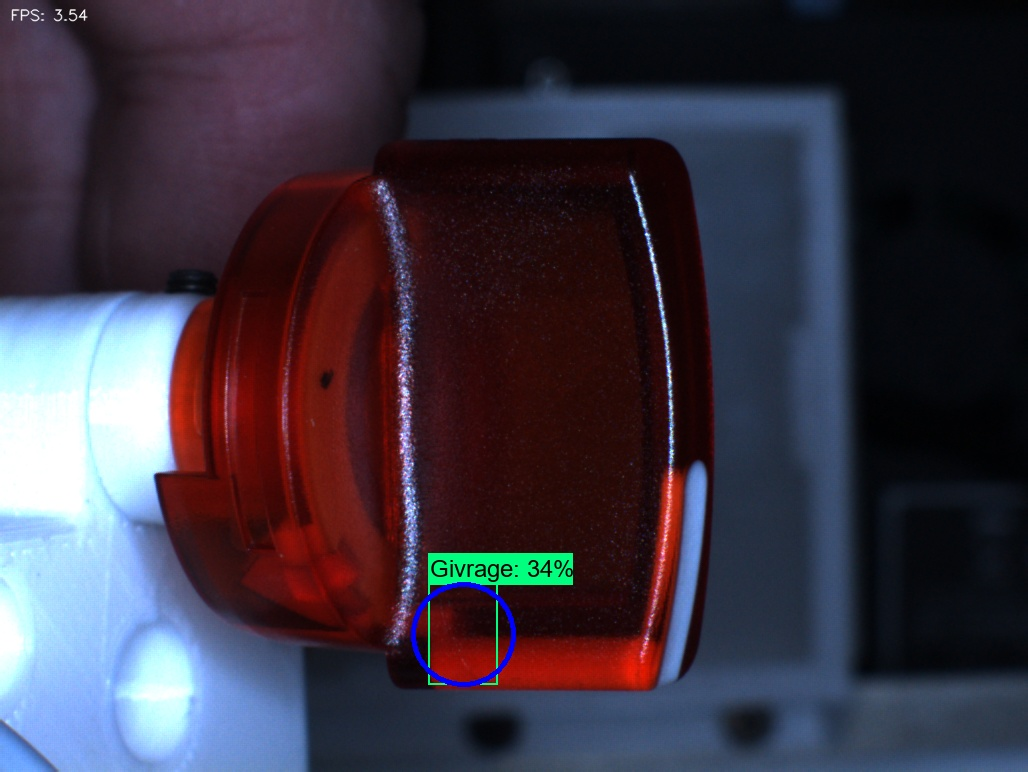PointNoir: (292, 334, 371, 431)
